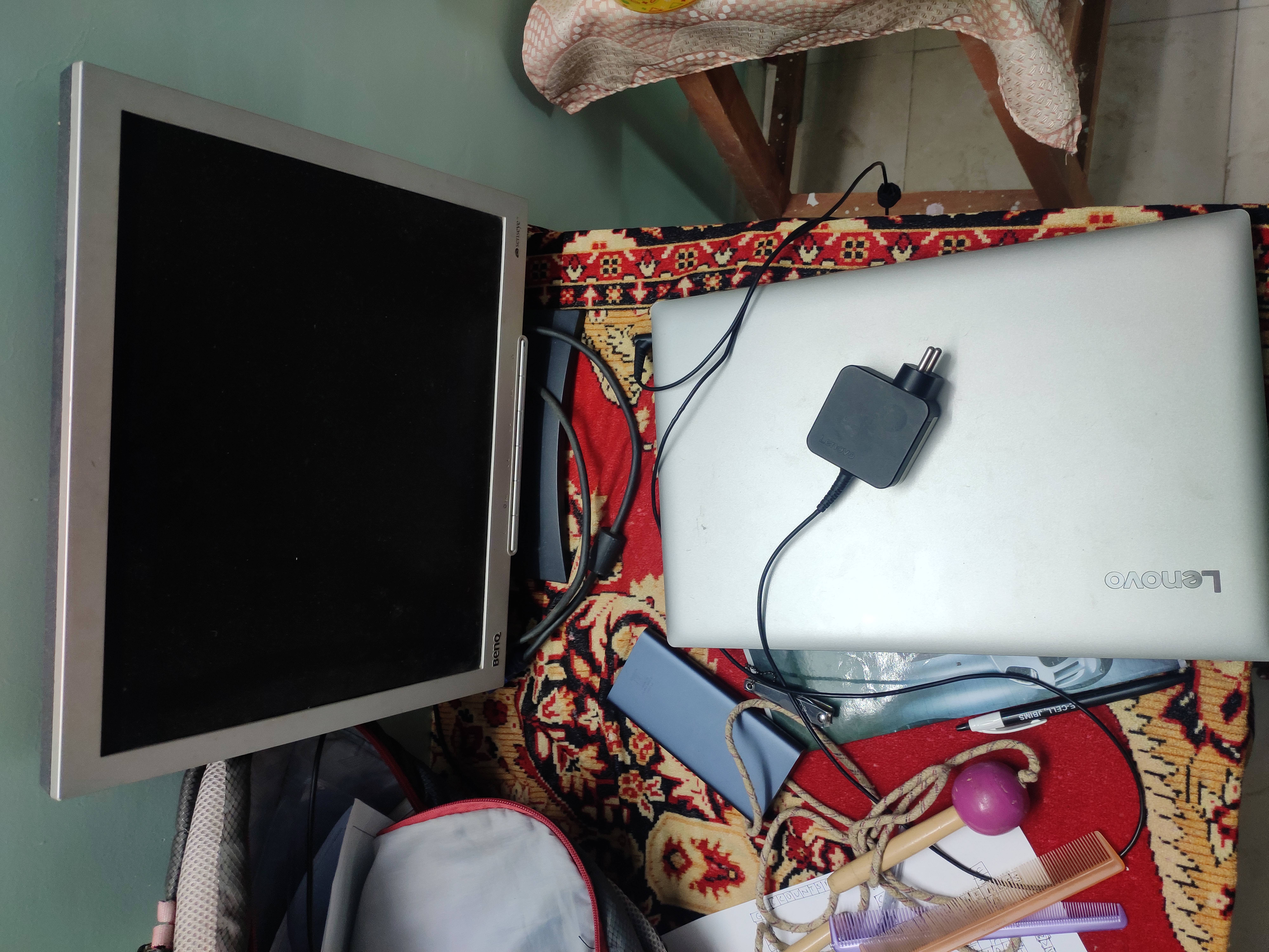Electronics: (34, 43, 592, 806)
